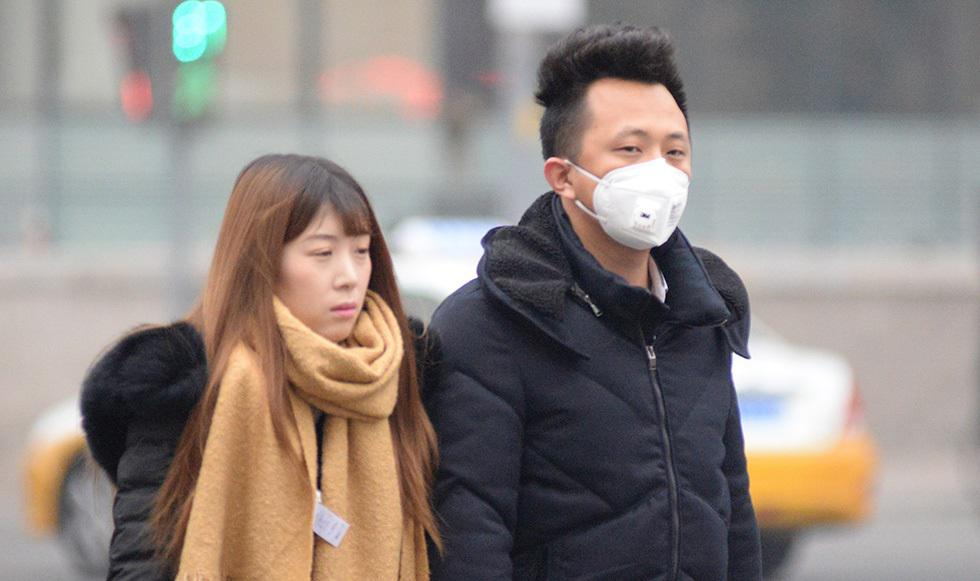NONE: (284, 221, 371, 344)
OK: (587, 110, 692, 252)
